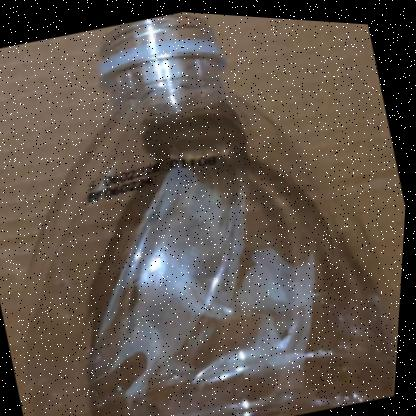open bottle: (1, 1, 412, 343)
